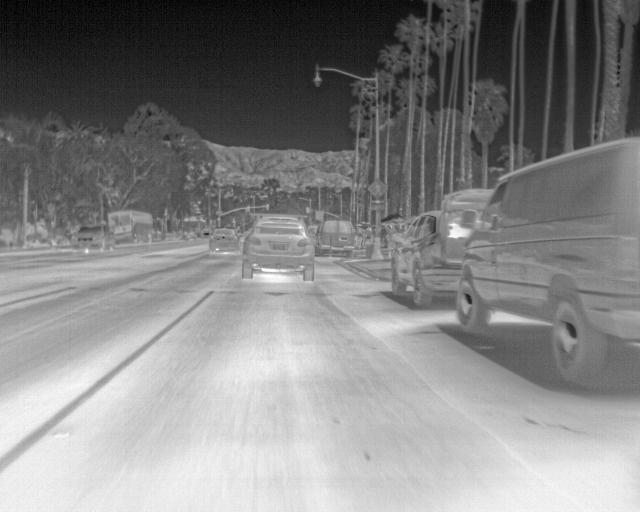bicycle: (457, 132, 638, 379), (388, 184, 495, 307), (239, 213, 316, 278), (312, 216, 358, 255), (72, 222, 111, 252), (207, 226, 242, 255)
